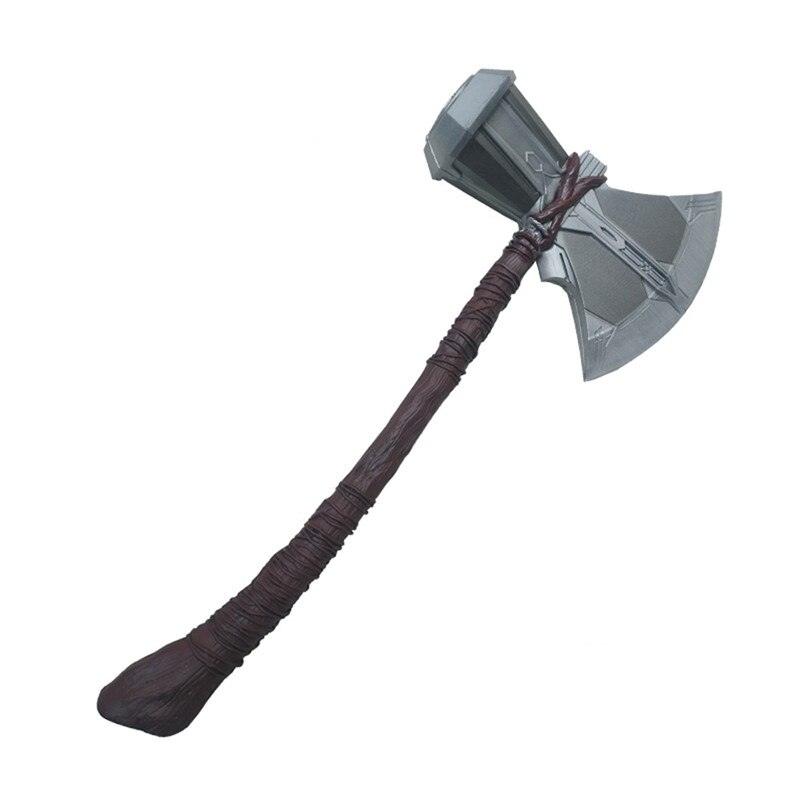THOR Hammer: (43, 62, 728, 718)
